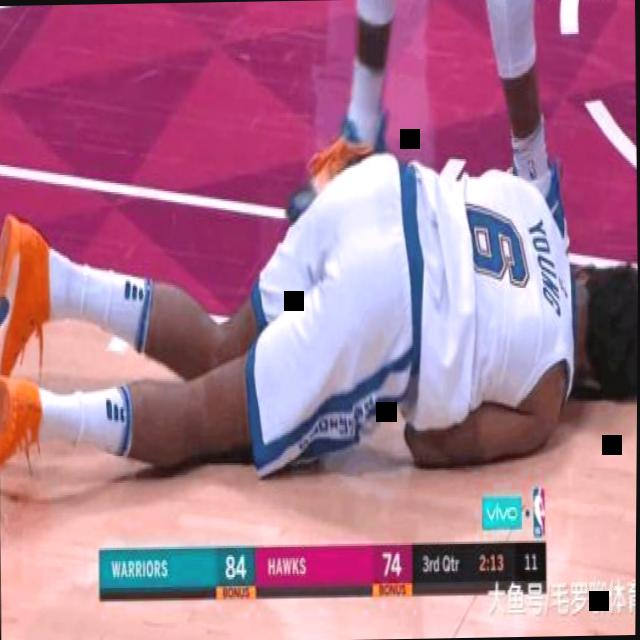Fall-Detected: (0, 126, 639, 484)
